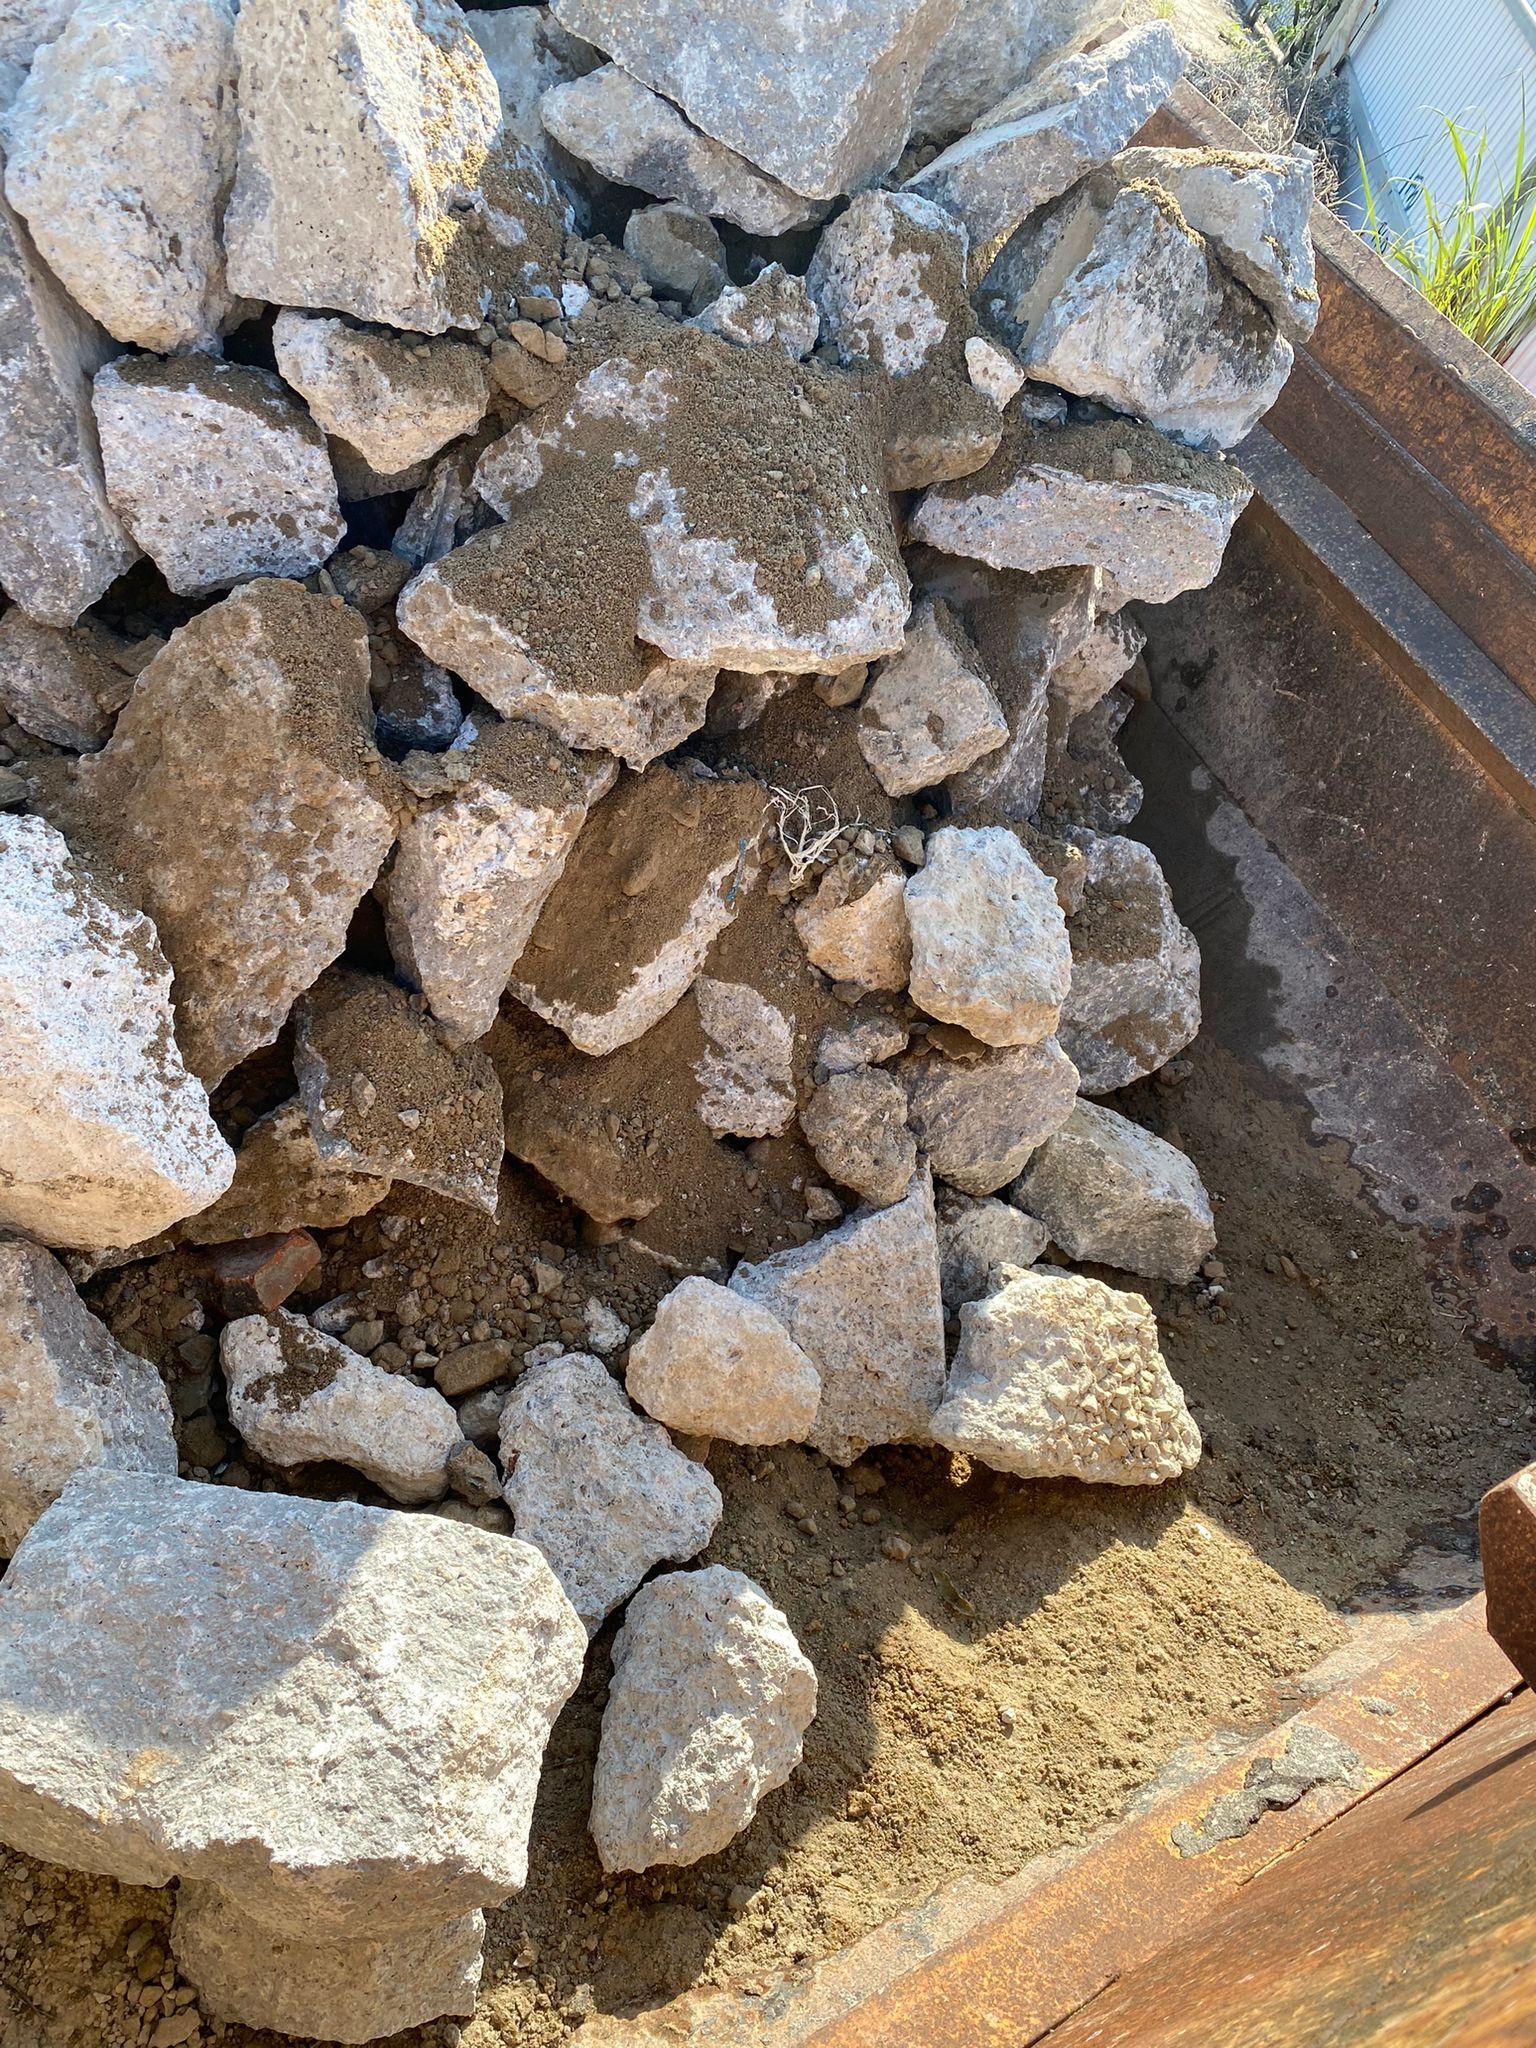stone: (0, 1, 1334, 2041), (0, 1460, 590, 2042), (393, 306, 914, 770), (587, 1562, 819, 1876), (928, 1260, 1203, 1487)
